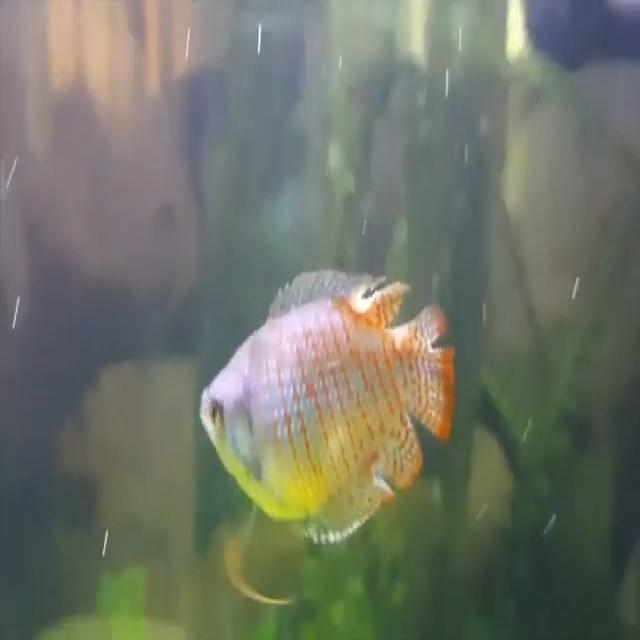fish: (197, 266, 458, 549)
